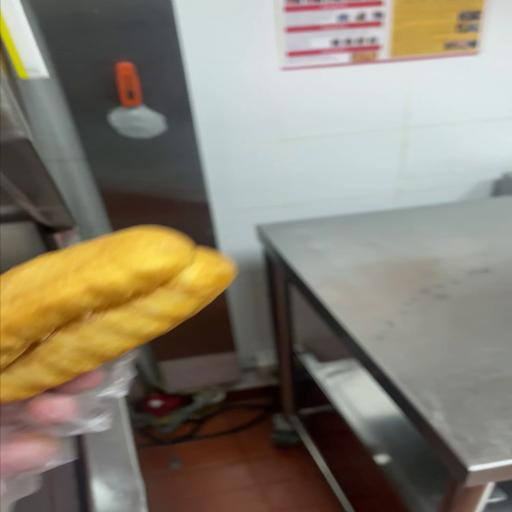brand_golden_good: (0, 226, 235, 403)
